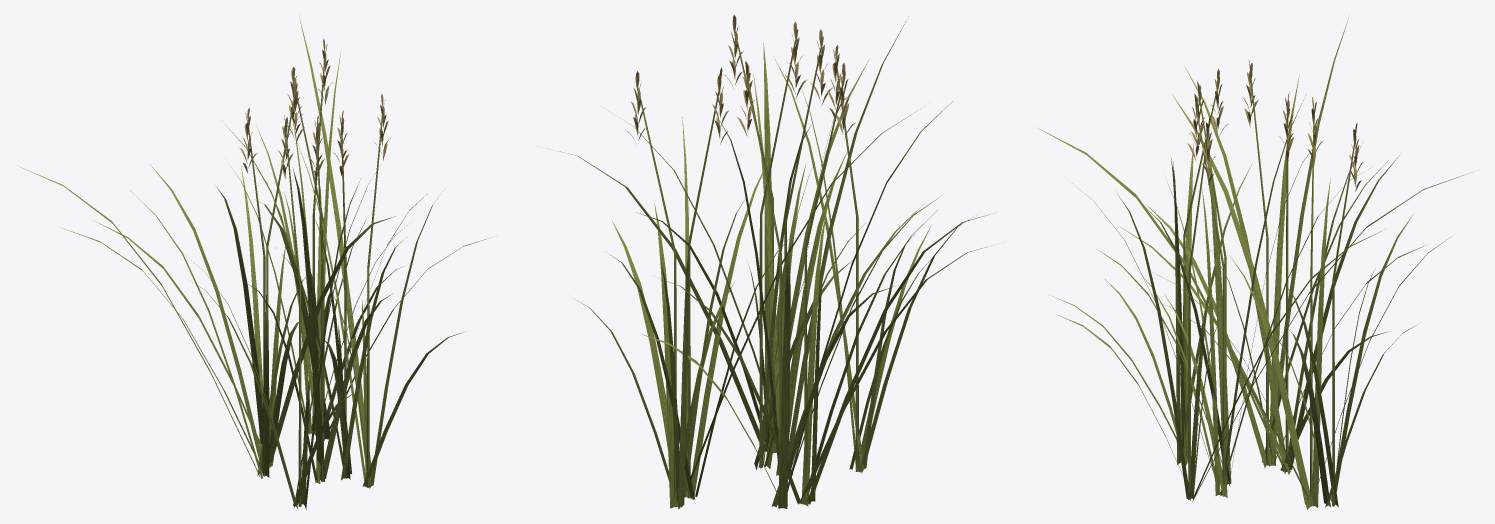
The model's file is TuftedHairgrass_C.fbx.
The picture shows the model from 3 angles, left to right: view 1: azimuth 30°, elevation 25°; view 2: azimuth 150°, elevation 25°; view 3: azimuth 270°, elevation 25°; orthographic projection. The views are drawn at different scales.
Visible parts, largest first — view 1: TuftedHairgrass_C_LOD0; view 2: TuftedHairgrass_C_LOD0; view 3: TuftedHairgrass_C_LOD0.
Boxes of the visible parts, x1,y1,x2,y2 form: TuftedHairgrass_C_LOD0: [19, 14, 490, 509]; TuftedHairgrass_C_LOD0: [548, 15, 994, 509]; TuftedHairgrass_C_LOD0: [1040, 17, 1472, 509].
Size of what is drawn, in the model's own units: 60.51 by 58.08 by 59.02.
Materials: 1 (1 with a texture image).
